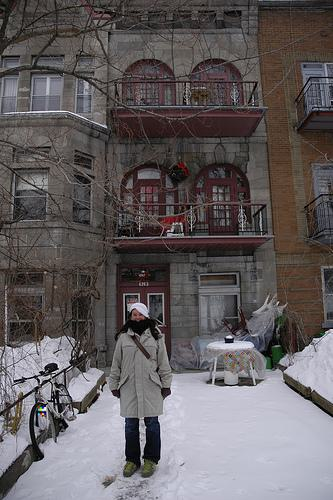car: (8, 361, 77, 461)
person: (106, 300, 174, 482)
